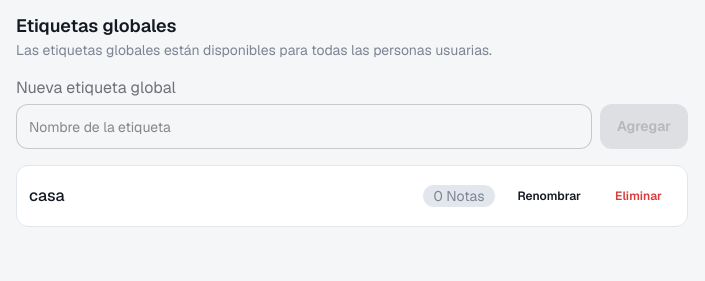
GlobalTagsPanel › renombra una etiqueta global (RF-3)
Click the button "Renombrar" at [549, 196], box 504,178 -> 594,214
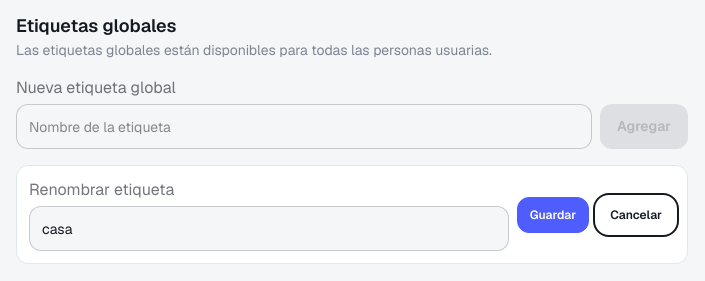
Replace the text in the field labelled "Renombrar etiqueta" with "hogar" at [269, 228], box 29,206 -> 509,251
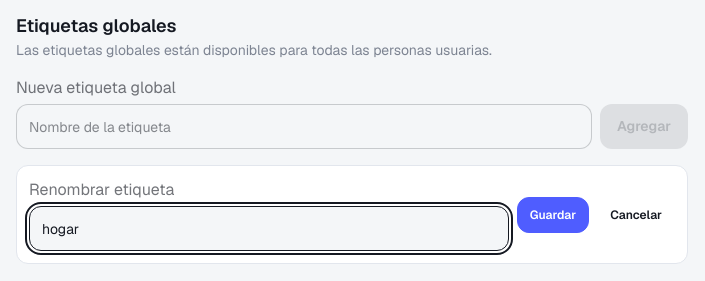
Click the button "Guardar" at [553, 214], box 517,196 -> 589,232
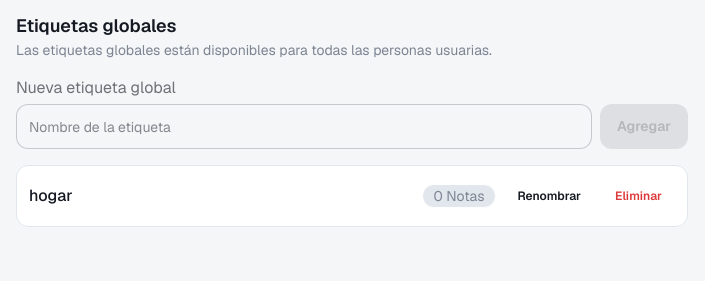
Result: the text "hogar" is shown at 29,185 -> 72,206
